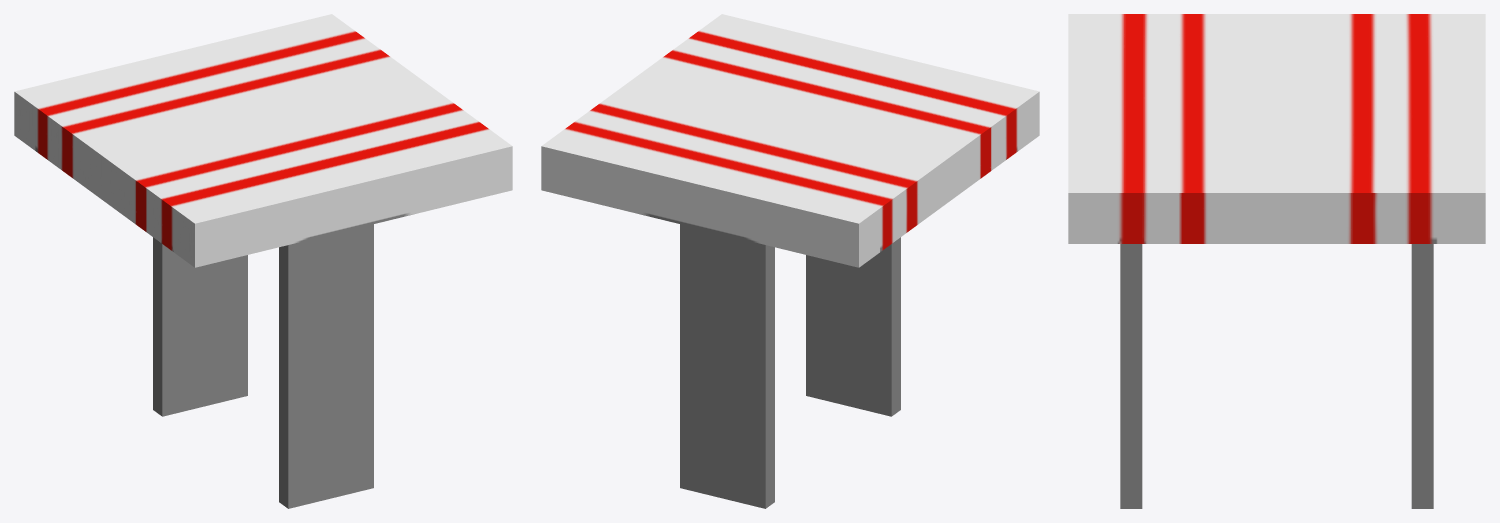
File: barrier.glb
3 renders of one model, left to right at view 1: azimuth 30°, elevation 25°; view 2: azimuth 150°, elevation 25°; view 3: azimuth 270°, elevation 25°, orthographic. The views are drawn at different scales.
Parts seen in each view (by area): view 1: Cube.001; view 2: Cube.001; view 3: Cube.001.
Boxes of the visible parts, bbox=[...] form: Cube.001: bbox=[14, 14, 512, 508]; Cube.001: bbox=[541, 14, 1039, 508]; Cube.001: bbox=[1068, 14, 1485, 508].
Bounding box in the file's own units: 0.9991 × 0.9919 × 0.984.
Materials: 1 (1 with a texture image).
